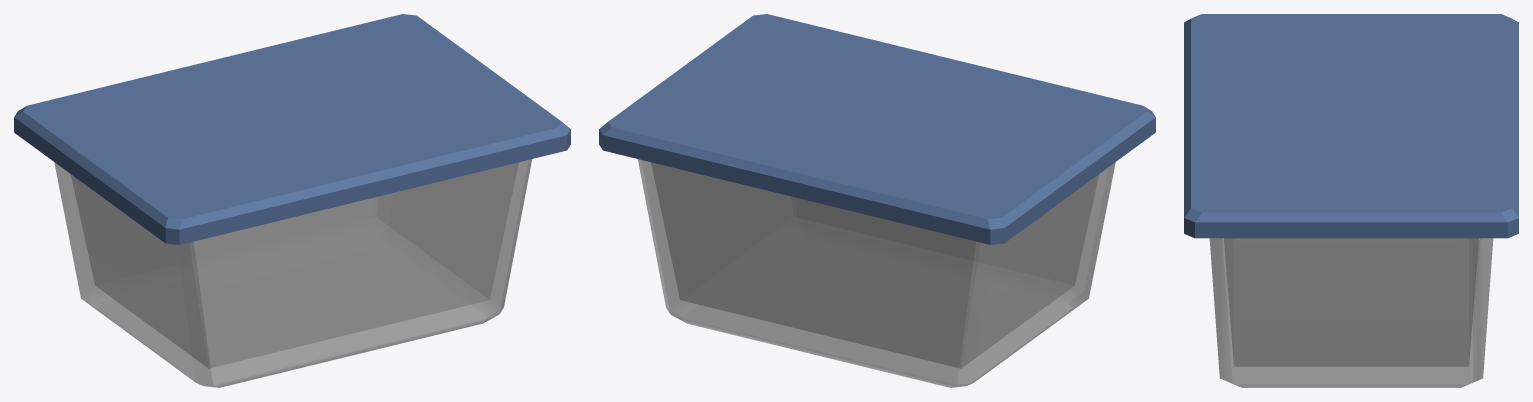
The model's file is StorageTub.fbx.
The picture shows the model from 3 angles, left to right: view 1: azimuth 30°, elevation 25°; view 2: azimuth 150°, elevation 25°; view 3: azimuth 270°, elevation 25°; orthographic projection. The views are drawn at different scales.
Visible parts, largest first — view 1: Lid, Tub; view 2: Lid, Tub; view 3: Lid, Tub.
Boxes of the visible parts, x1,y1,x2,y2 form: Lid: [14, 14, 570, 244]; Tub: [54, 159, 532, 387]; Lid: [599, 14, 1155, 244]; Tub: [637, 159, 1115, 387]; Lid: [1184, 14, 1518, 238]; Tub: [1209, 238, 1493, 387].
Size of the model in its own units: 84.24 by 38.97 by 58.24.
